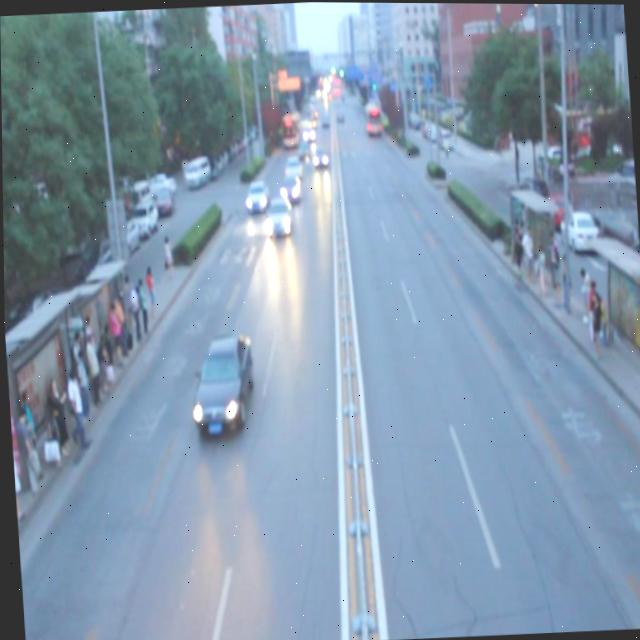car: (186, 332, 256, 436), (266, 195, 293, 239), (244, 179, 269, 213), (278, 175, 300, 205), (284, 155, 302, 183), (296, 141, 312, 164), (311, 148, 328, 169)
